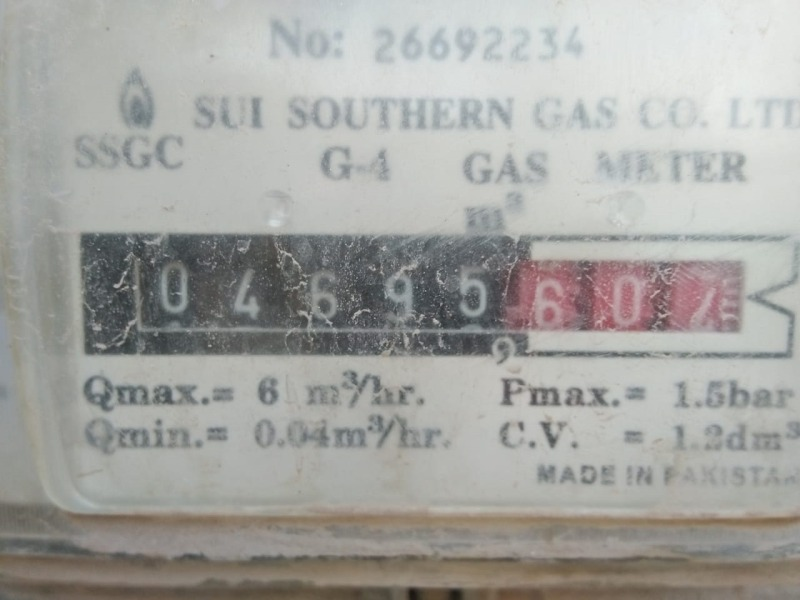ssgc: (121, 238, 760, 350)
